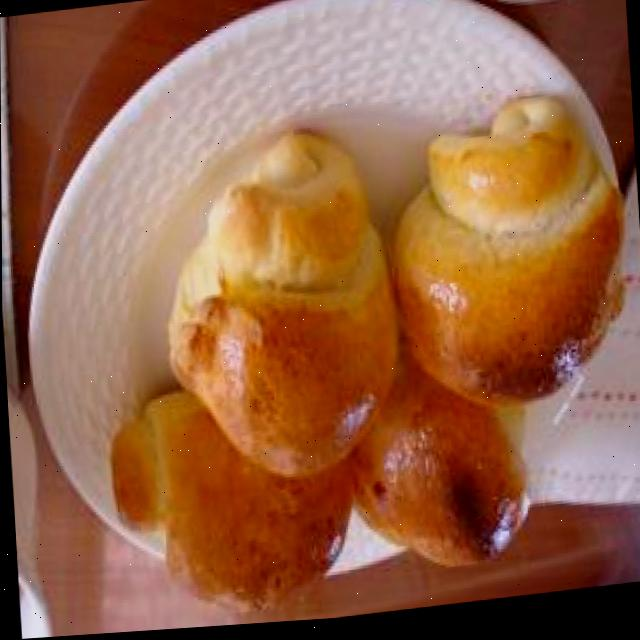面包点心: (96, 89, 640, 634)
